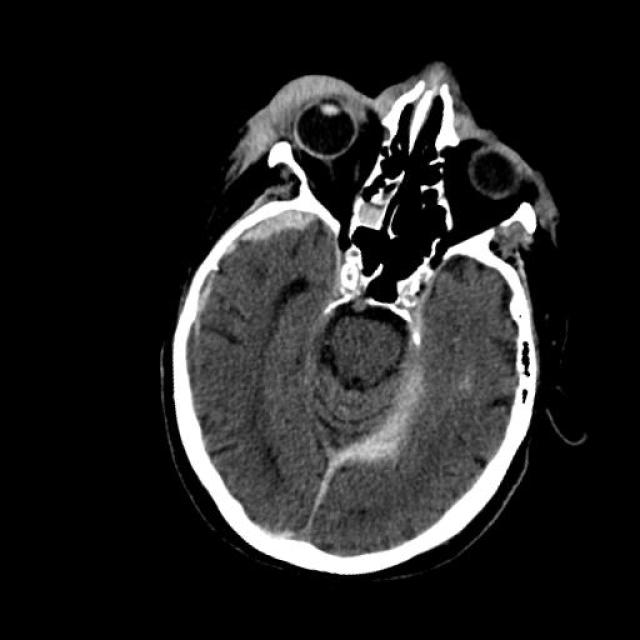Subdural: (237, 319, 471, 599), (170, 170, 341, 334)
